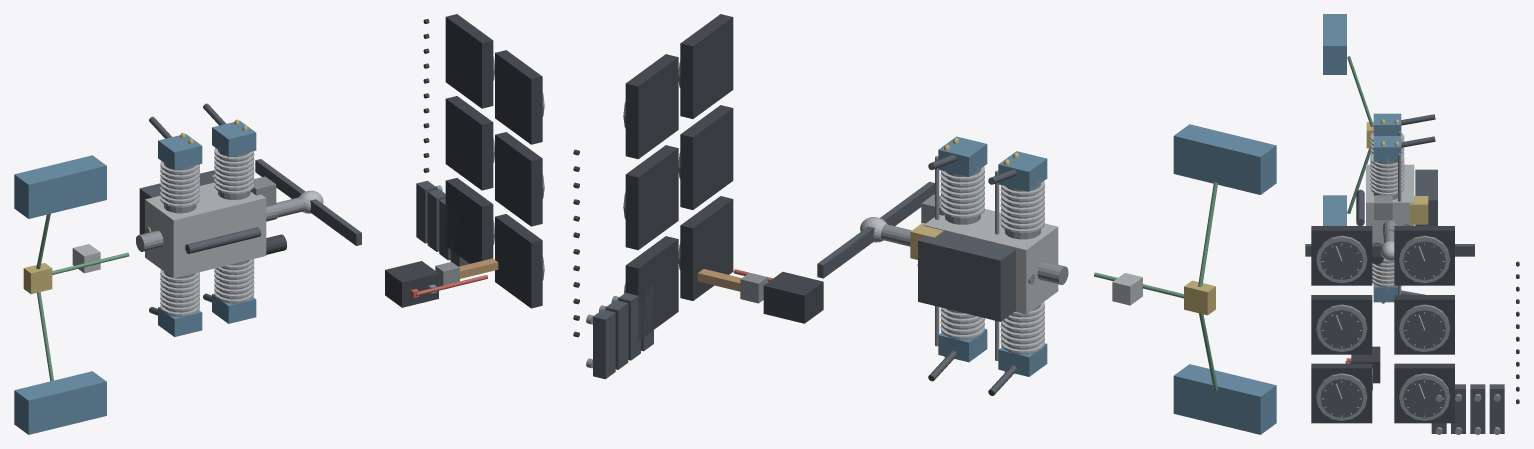
Rendered from C172N_Systems_Exploded_Editable.glb.
3 renders of one model, left to right at view 1: azimuth 30°, elevation 25°; view 2: azimuth 150°, elevation 25°; view 3: azimuth 270°, elevation 25°, orthographic. The views are drawn at different scales.
Visible parts, largest first — view 1: ENGINE__crankcase, FUEL__right_wing_tank, FUEL__left_wing_tank, PANEL__HEADING__housing, PANEL__VSI__housing, PANEL__ALTIMETER__housing, PANEL__ATTITUDE__housing, PANEL__AIRSPEED__housing, PANEL__TURN_COORDINATOR__housing, ELECTRICAL__battery, ENGINE__cylinder_3__head, ENGINE__cylinder_4__head (+18 smaller); view 2: ENGINE__oil_sump, FUEL__right_wing_tank, FUEL__left_wing_tank, PANEL__ALTIMETER__housing, PANEL__VSI__housing, PANEL__ATTITUDE__housing, PANEL__HEADING__housing, ENGINE__crankcase, PANEL__AIRSPEED__housing, PANEL__TURN_COORDINATOR__housing, ELECTRICAL__battery, PANEL__NAV_COM_0 (+13 smaller); view 3: PANEL__AIRSPEED__housing, PANEL__ALTIMETER__housing, PANEL__ATTITUDE__housing, PANEL__TURN_COORDINATOR__housing, PANEL__HEADING__housing, PANEL__VSI__housing, ENGINE__crankcase, FUEL__right_wing_tank, PANEL__VSI__face, PANEL__AIRSPEED__face, PANEL__ALTIMETER__face, PANEL__ATTITUDE__face (+27 smaller).
Part boxes in pixels (box(x1,y1,x2,y2)): ENGINE__crankcase: box(145, 182, 266, 278); FUEL__right_wing_tank: box(14, 155, 106, 218); FUEL__left_wing_tank: box(14, 371, 106, 434); PANEL__HEADING__housing: box(445, 96, 493, 190); PANEL__VSI__housing: box(445, 14, 493, 108); PANEL__ALTIMETER__housing: box(495, 50, 542, 144); PANEL__ATTITUDE__housing: box(495, 132, 542, 226); PANEL__AIRSPEED__housing: box(495, 214, 542, 308); PANEL__TURN_COORDINATOR__housing: box(445, 178, 493, 263); ELECTRICAL__battery: box(385, 261, 438, 307); ENGINE__cylinder_3__head: box(158, 134, 202, 170); ENGINE__cylinder_4__head: box(212, 120, 256, 157); ENGINE__oil_sump: box(918, 232, 1015, 321); FUEL__right_wing_tank: box(1173, 124, 1276, 194); FUEL__left_wing_tank: box(1173, 364, 1276, 434); PANEL__ALTIMETER__housing: box(680, 14, 733, 118); PANEL__VSI__housing: box(625, 54, 678, 159); PANEL__ATTITUDE__housing: box(680, 105, 733, 209); PANEL__HEADING__housing: box(625, 145, 678, 250); ENGINE__crankcase: box(923, 209, 1058, 314); PANEL__AIRSPEED__housing: box(680, 196, 733, 300); PANEL__TURN_COORDINATOR__housing: box(625, 236, 678, 340); ELECTRICAL__battery: box(763, 271, 823, 323); PANEL__NAV_COM_0: box(593, 309, 615, 379); PANEL__AIRSPEED__housing: box(1311, 363, 1372, 423); PANEL__ALTIMETER__housing: box(1311, 226, 1372, 285); PANEL__ATTITUDE__housing: box(1311, 295, 1372, 354); PANEL__TURN_COORDINATOR__housing: box(1394, 363, 1454, 423); PANEL__HEADING__housing: box(1394, 295, 1454, 354); PANEL__VSI__housing: box(1394, 226, 1454, 285); ENGINE__crankcase: box(1366, 164, 1414, 243); FUEL__right_wing_tank: box(1323, 14, 1346, 74); PANEL__VSI__face: box(1403, 241, 1445, 280); PANEL__AIRSPEED__face: box(1320, 379, 1363, 417); PANEL__ALTIMETER__face: box(1320, 241, 1363, 280); PANEL__ATTITUDE__face: box(1320, 310, 1363, 348).
Bounding box in the file's own units: 7.25 × 3.39 × 3.11.
